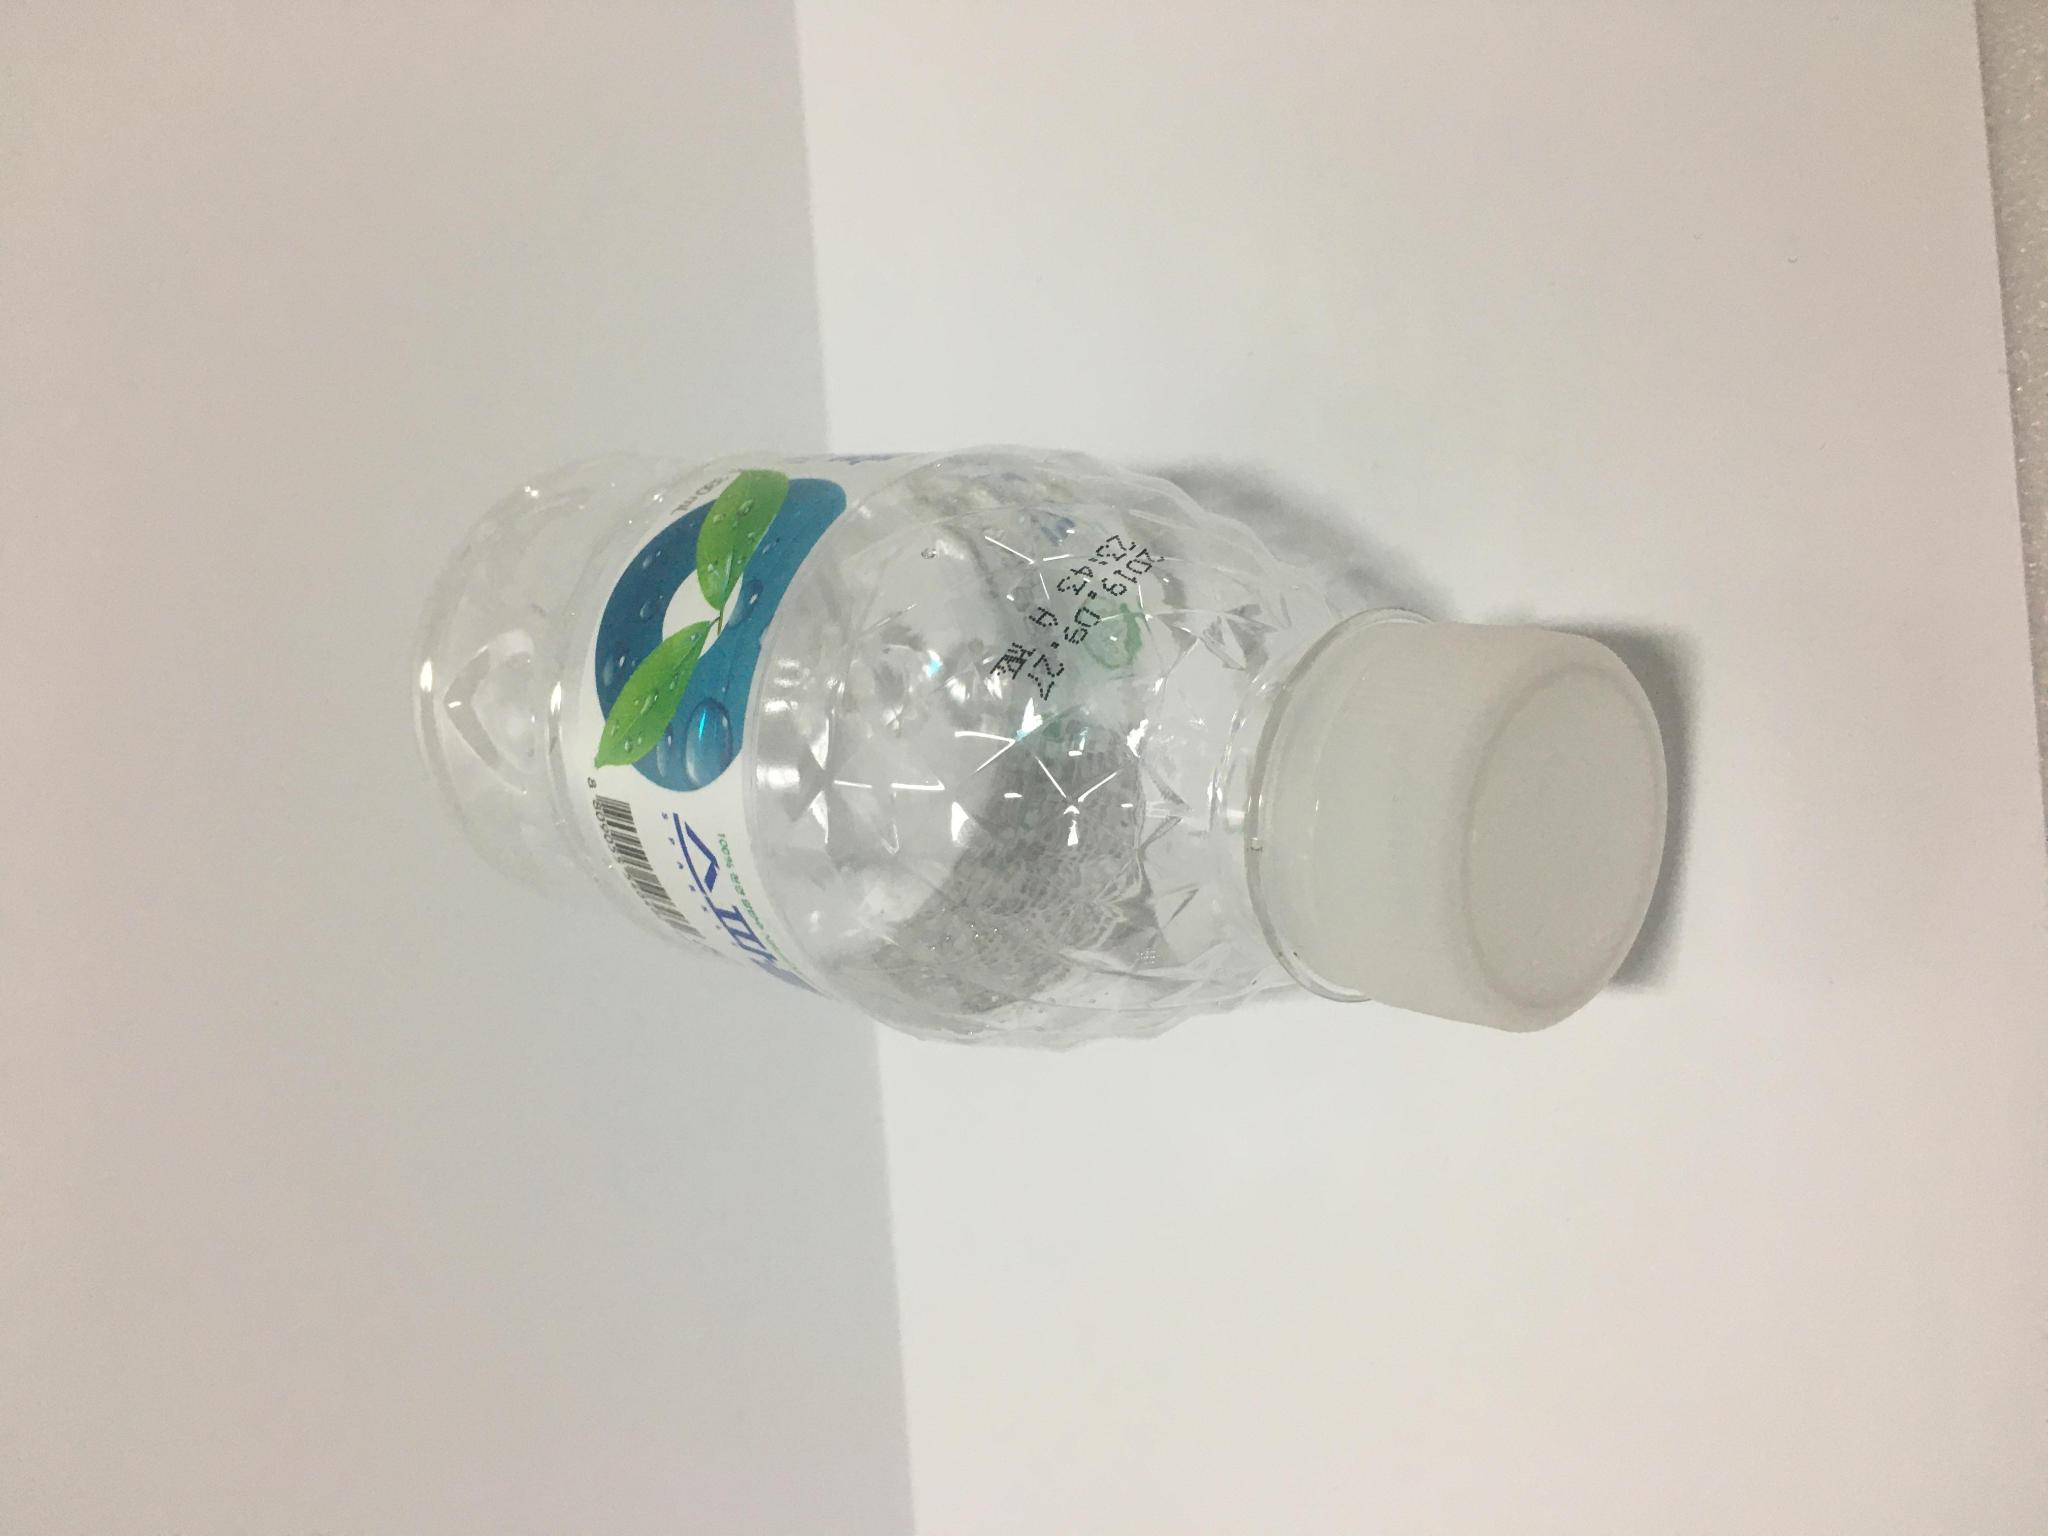bottle: (393, 431, 1684, 1089)
